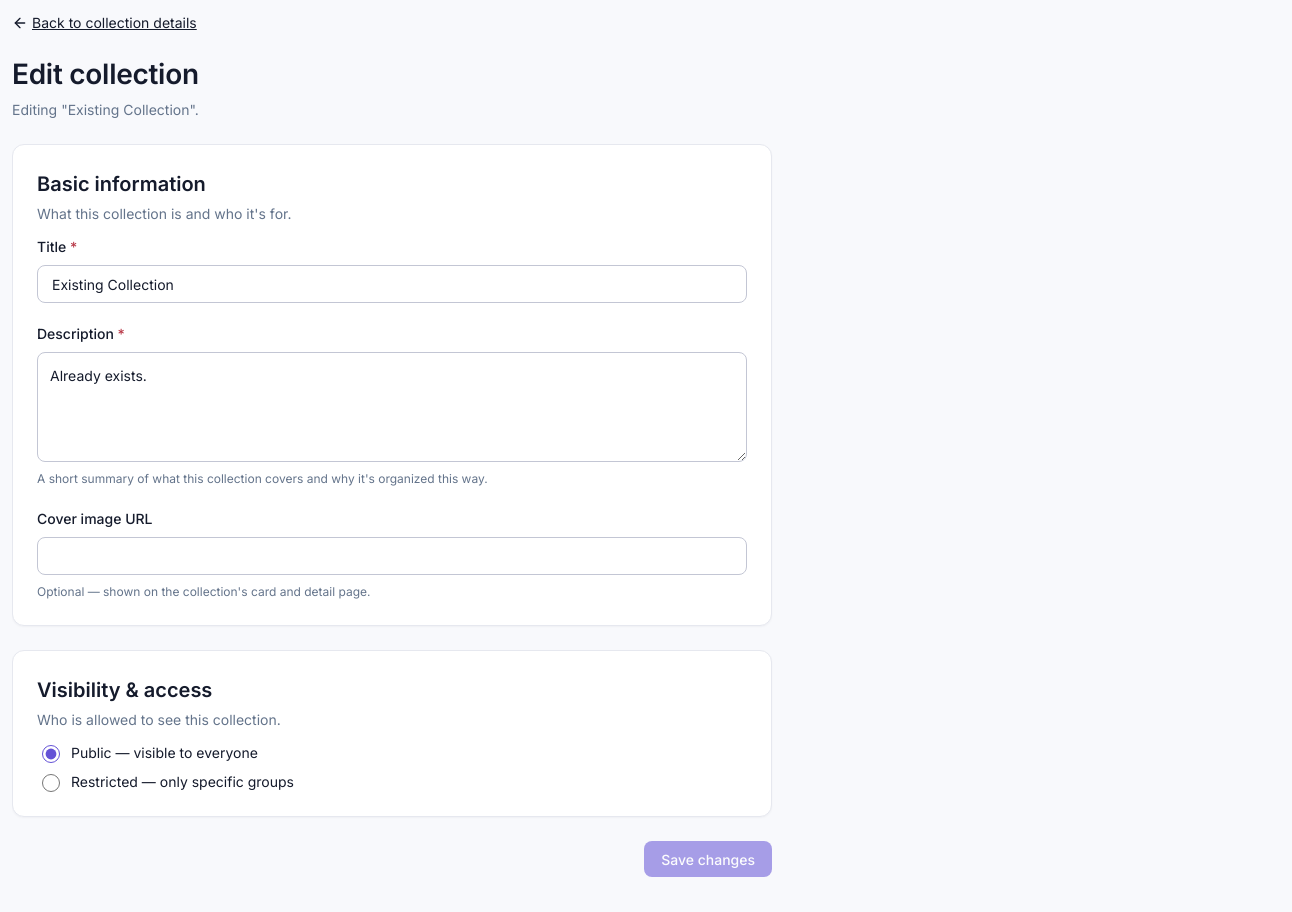
Scenario: EditCollectionPage › prepopulates the form and saves only the changed field as a PATCH
Replace the text in the field labelled "Title *" with "Updated Title" at coordinates (392, 284), box [50,266,734,302]
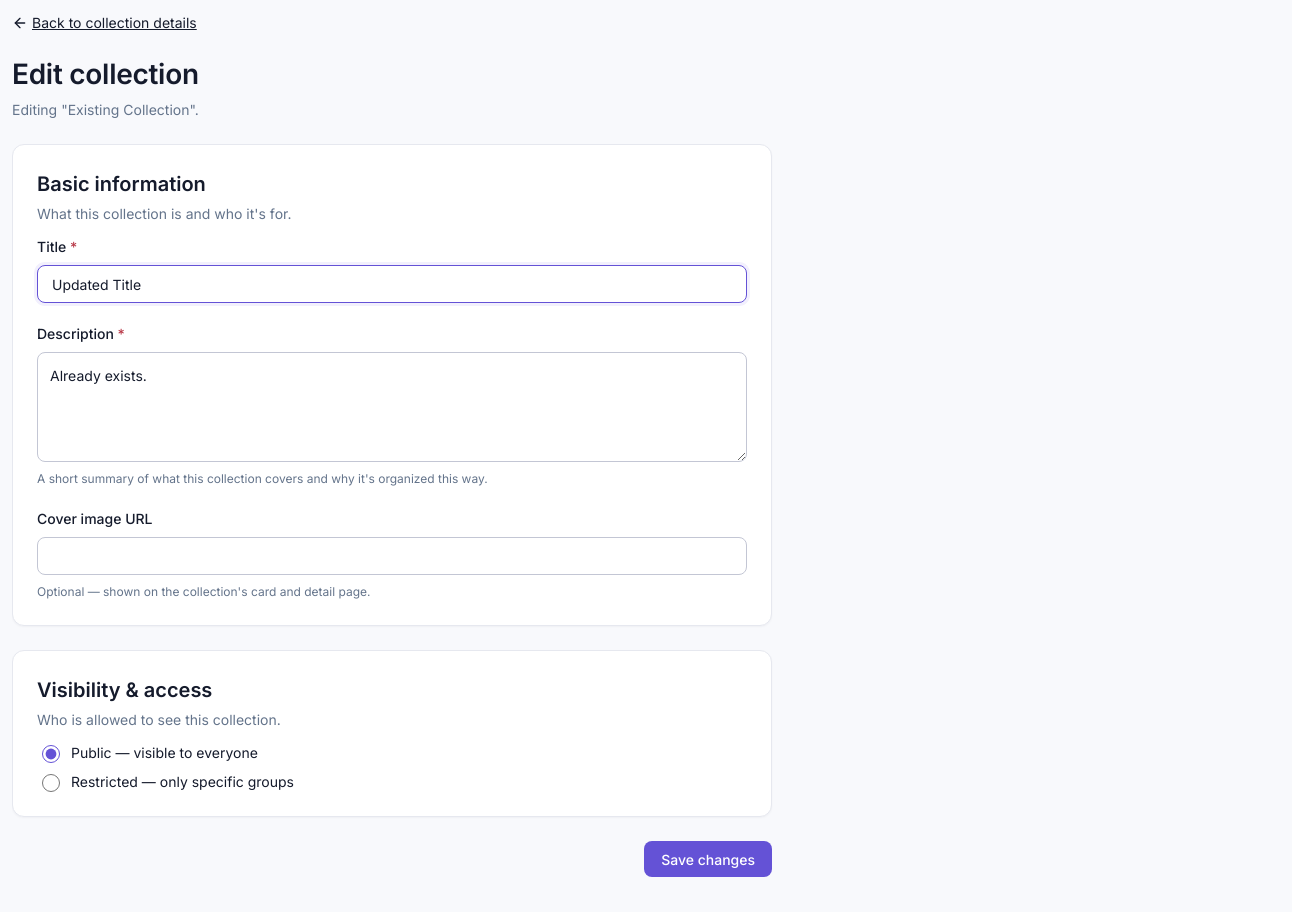
Click the button "Save changes" at coordinates (708, 859), box [644,841,772,877]
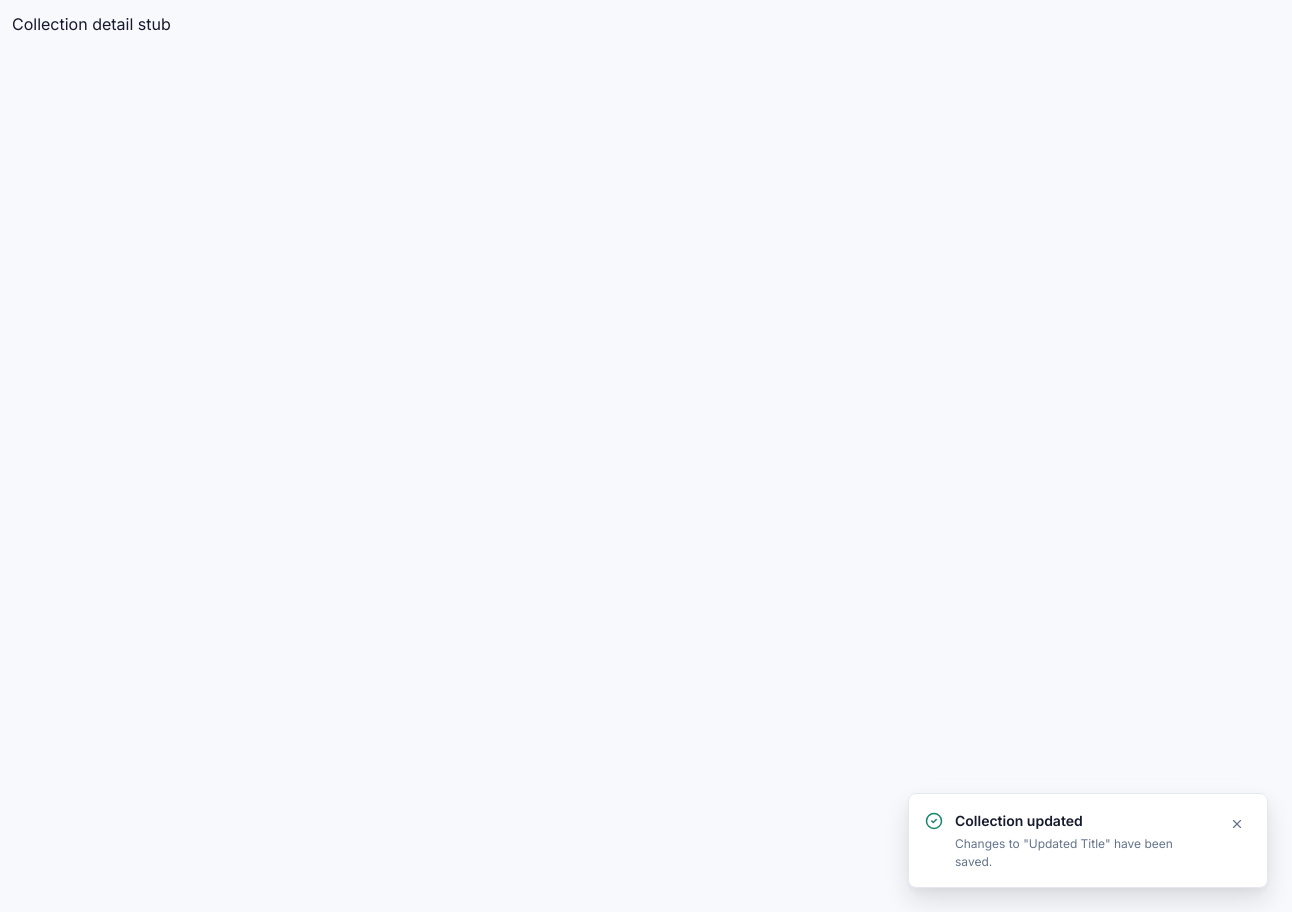
Now the text "Collection updated" is shown, box [955,812,1083,829]
Now the text "Collection detail stub" is shown, box [12,14,171,34]
